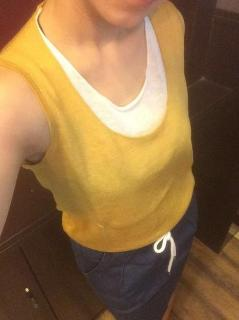skirt: (68, 179, 199, 319)
vest dress: (0, 0, 196, 253)
